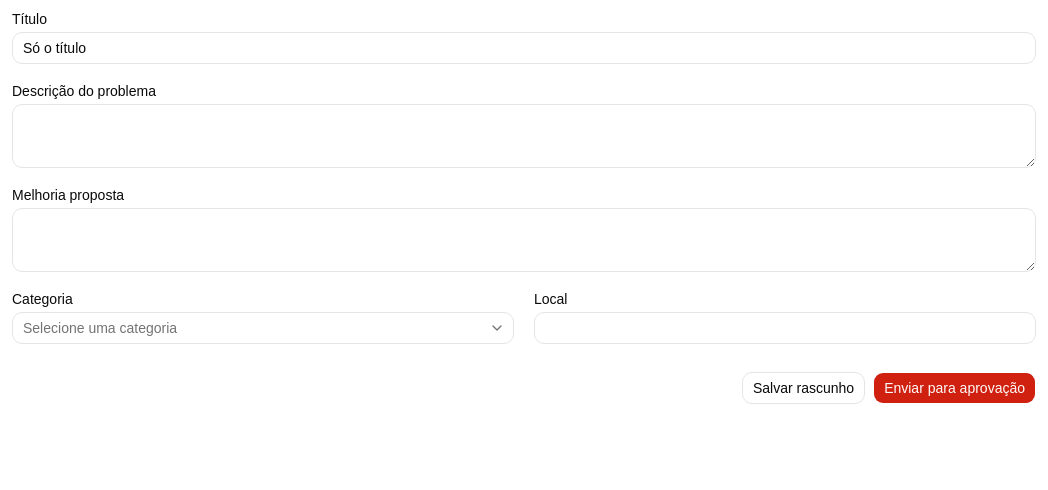
Test: SolicitationForm › bloqueia o envio para aprovação quando faltam campos obrigatórios
The width and height of the screenshot is (1048, 490).
Click the button "Enviar para aprovação" at (955, 388), box [873, 372, 1036, 404]
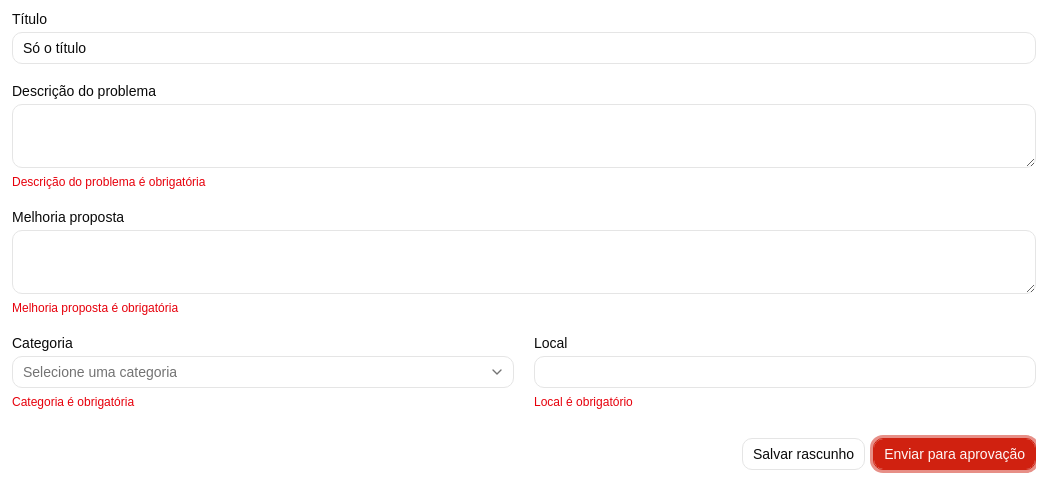
Expected: the text "Descrição do problema é obrigatória" is shown, [12, 175, 205, 189]
Expected: the text "Melhoria proposta é obrigatória" is shown, [12, 301, 178, 315]
Expected: the text "Categoria é obrigatória" is shown, [12, 395, 134, 409]
